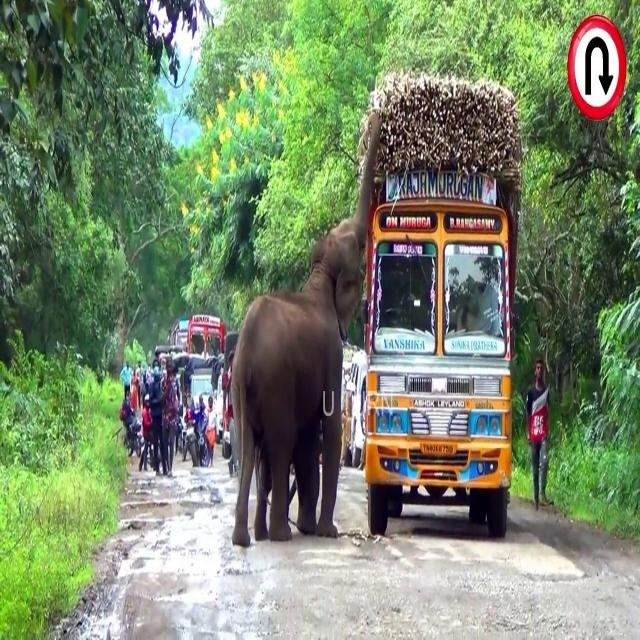Elephant: (229, 108, 381, 548)
